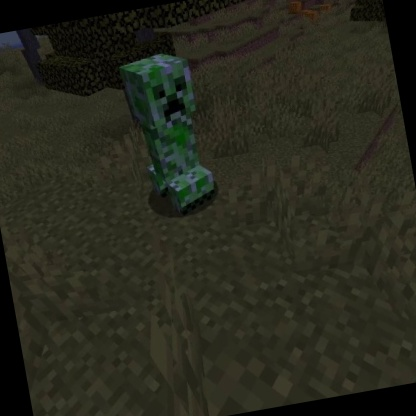creeper: (113, 44, 224, 228)
